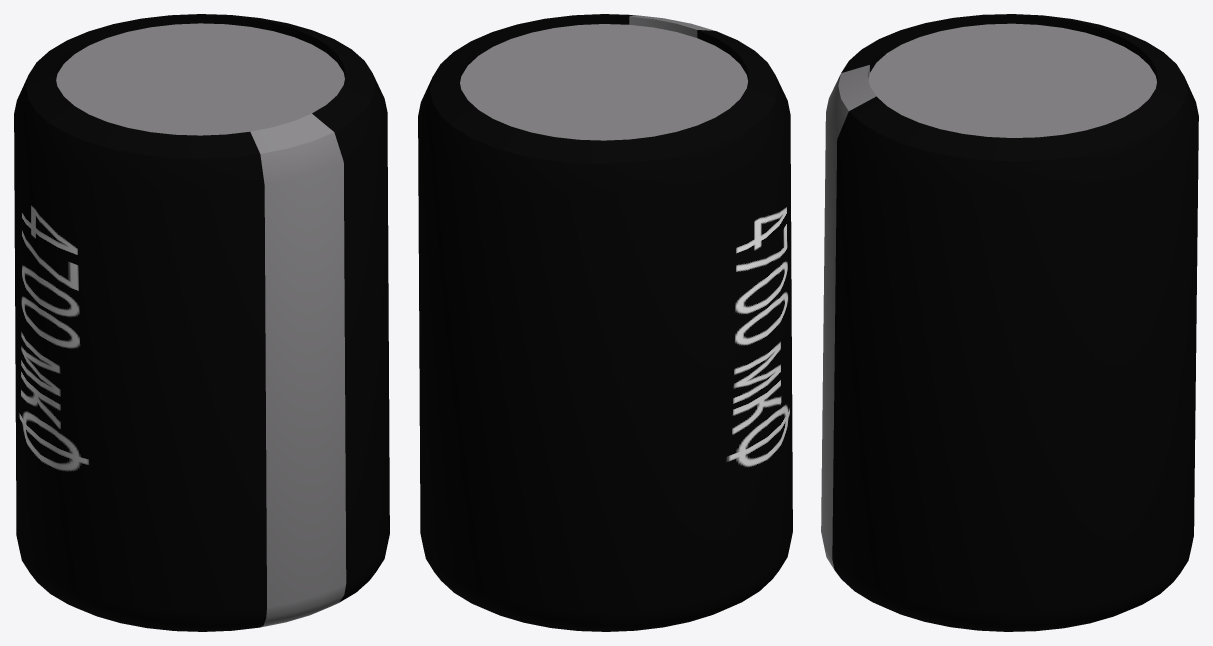
The model's file is Capacitor.glb.
3 views of the same model, side by side, from view 1: azimuth 30°, elevation 25°; view 2: azimuth 150°, elevation 25°; view 3: azimuth 270°, elevation 25° (orthographic).
Parts seen in each view (by area): view 1: Cylinder.005; view 2: Cylinder.005; view 3: Cylinder.005.
Boxes of the visible parts, x1,y1,x2,y2 form: Cylinder.005: (14, 14, 389, 631); Cylinder.005: (418, 14, 792, 631); Cylinder.005: (821, 14, 1198, 631).
Bounding box in the file's own units: 1.02 × 1.55 × 1.04.
Materials: 2 (1 with a texture image).
